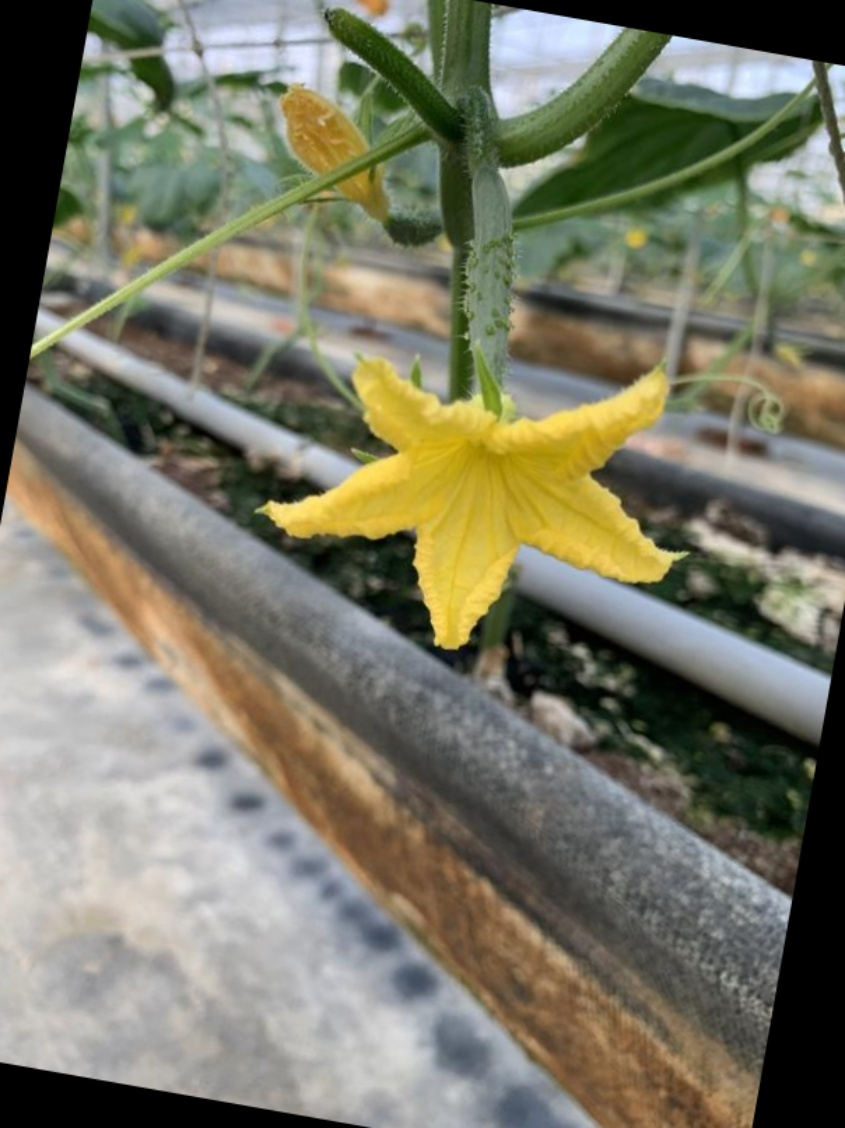flowering: (264, 133, 716, 668)
